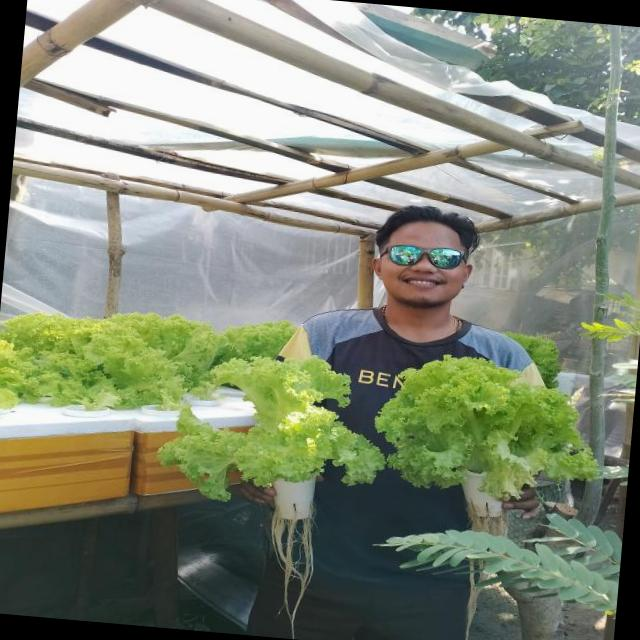Lettuce-Ready-to-Harvest: (156, 346, 394, 516), (379, 340, 612, 503), (54, 318, 198, 412), (0, 311, 97, 413)
